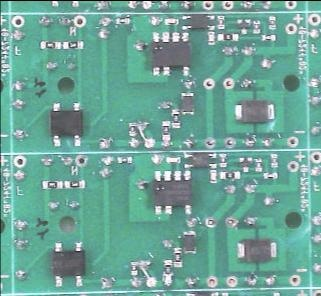chip-capacitor: (164, 17, 179, 25), (166, 155, 181, 163), (207, 30, 215, 44), (209, 168, 217, 182)
chip-resistor: (170, 107, 181, 128), (62, 39, 84, 49), (40, 179, 62, 189), (216, 32, 239, 41), (38, 40, 61, 49), (63, 179, 86, 188), (219, 170, 241, 179), (173, 247, 182, 266), (162, 119, 170, 139), (163, 259, 172, 275), (260, 33, 276, 41), (252, 18, 260, 34), (116, 155, 132, 163), (217, 14, 225, 29), (263, 171, 278, 179), (130, 260, 138, 275), (268, 15, 276, 29), (129, 122, 137, 136), (254, 157, 262, 171), (115, 17, 130, 24), (271, 153, 278, 168), (219, 153, 226, 166)
diode: (234, 99, 274, 123), (236, 237, 276, 261), (182, 229, 196, 253), (181, 91, 194, 115)
ic: (152, 169, 193, 214), (150, 31, 191, 75), (50, 240, 86, 286), (49, 102, 83, 146), (181, 13, 215, 30), (183, 151, 217, 168)
transistor: (236, 18, 251, 34), (239, 156, 253, 172)
